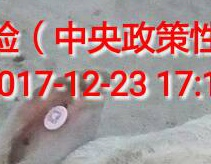text: (31, 100, 77, 136)
